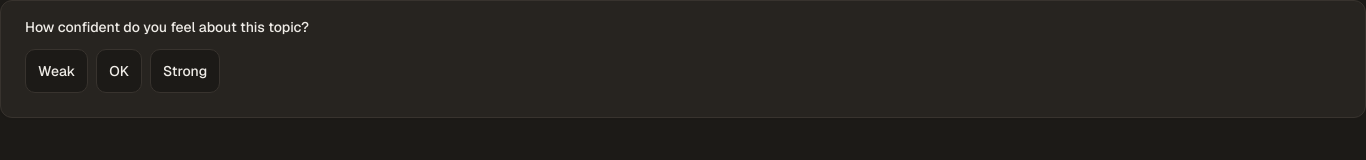
it: ConfidenceCalibration › stores after rating and shows delta when both ratings complete
The image size is (1366, 160).
Click the button with test id "rating-weak": point(57, 71) [25, 49, 88, 93]
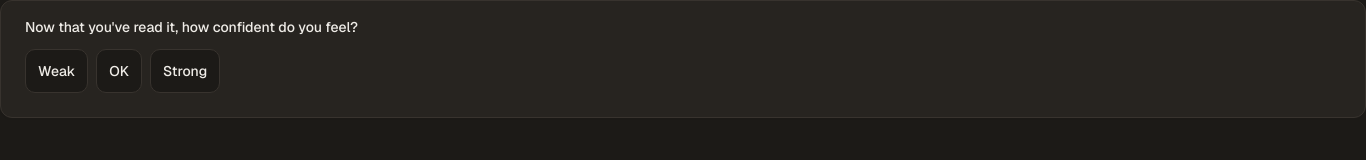
Click the button with test id "rating-strong": point(185, 71) [150, 49, 220, 93]
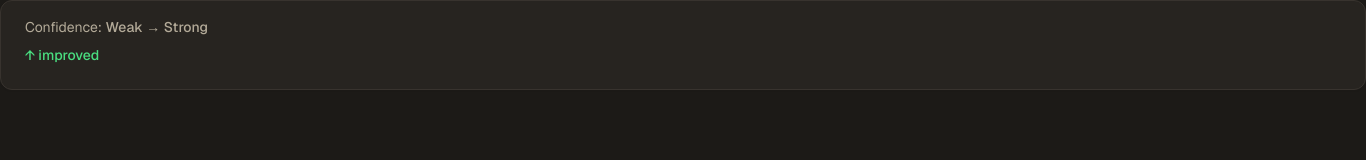
Result: the text "↑ improved" is shown at [25, 46, 99, 64]
